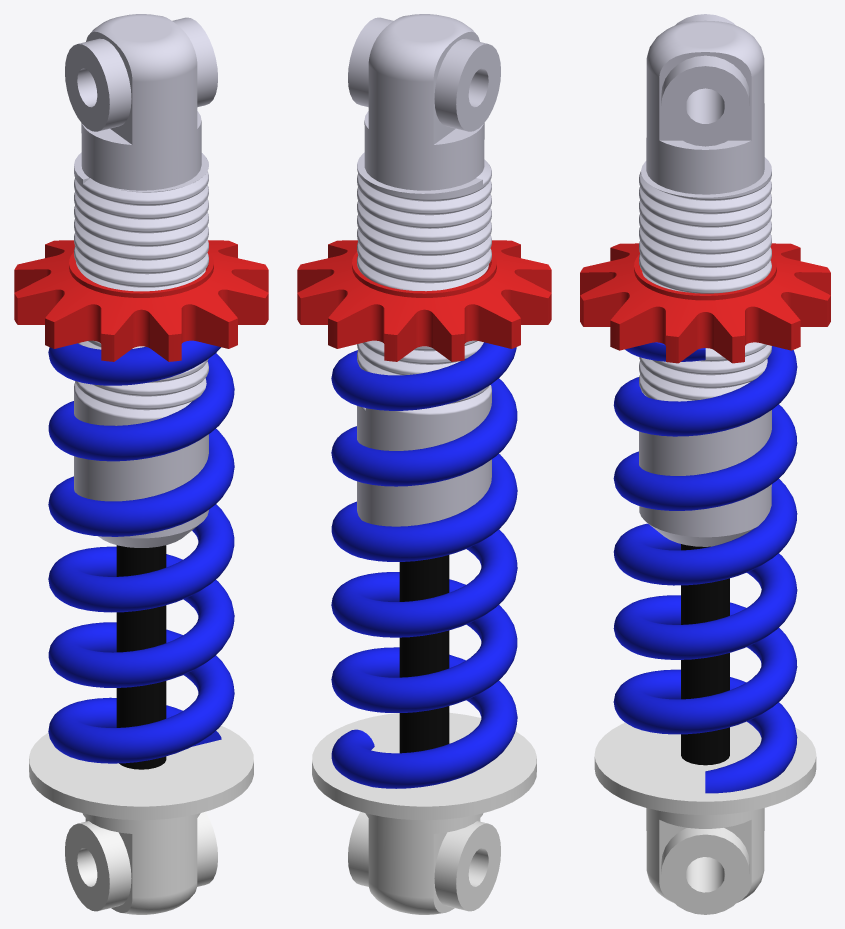
The model's file is Suspension.glb.
3 renders of one model, left to right at view 1: azimuth 30°, elevation 25°; view 2: azimuth 150°, elevation 25°; view 3: azimuth 270°, elevation 25°, orthographic.
Parts seen in each view (by area): view 1: SPRING, ROD, BASE, NUT, BASE.001; view 2: SPRING, ROD, BASE, NUT, BASE.001; view 3: ROD, SPRING, BASE, NUT, BASE.001.
Part boxes in pixels (left/top/right/bottom): SPRING: left=48, top=340, right=234, bottom=763; ROD: left=65, top=14, right=217, bottom=547; BASE: left=29, top=725, right=253, bottom=914; NUT: left=14, top=240, right=268, bottom=361; BASE.001: left=116, top=545, right=166, bottom=769; SPRING: left=331, top=342, right=517, bottom=788; ROD: left=348, top=14, right=500, bottom=526; BASE: left=312, top=712, right=536, bottom=914; NUT: left=297, top=240, right=551, bottom=361; BASE.001: left=399, top=555, right=449, bottom=753; ROD: left=639, top=14, right=771, bottom=546; SPRING: left=613, top=342, right=797, bottom=793; BASE: left=594, top=721, right=816, bottom=914; NUT: left=580, top=243, right=830, bottom=363; BASE.001: left=681, top=544, right=729, bottom=765.
Bounding box in the file's own units: 0.0508 × 0.192 × 0.0508.
